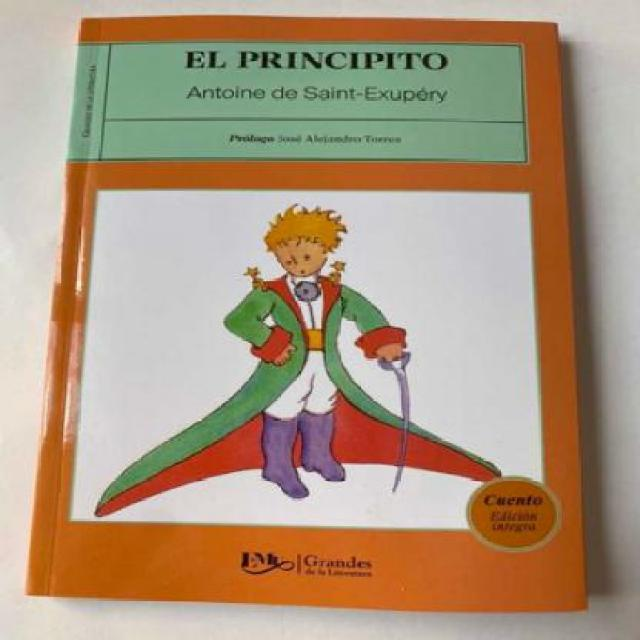book: (28, 6, 610, 637)
